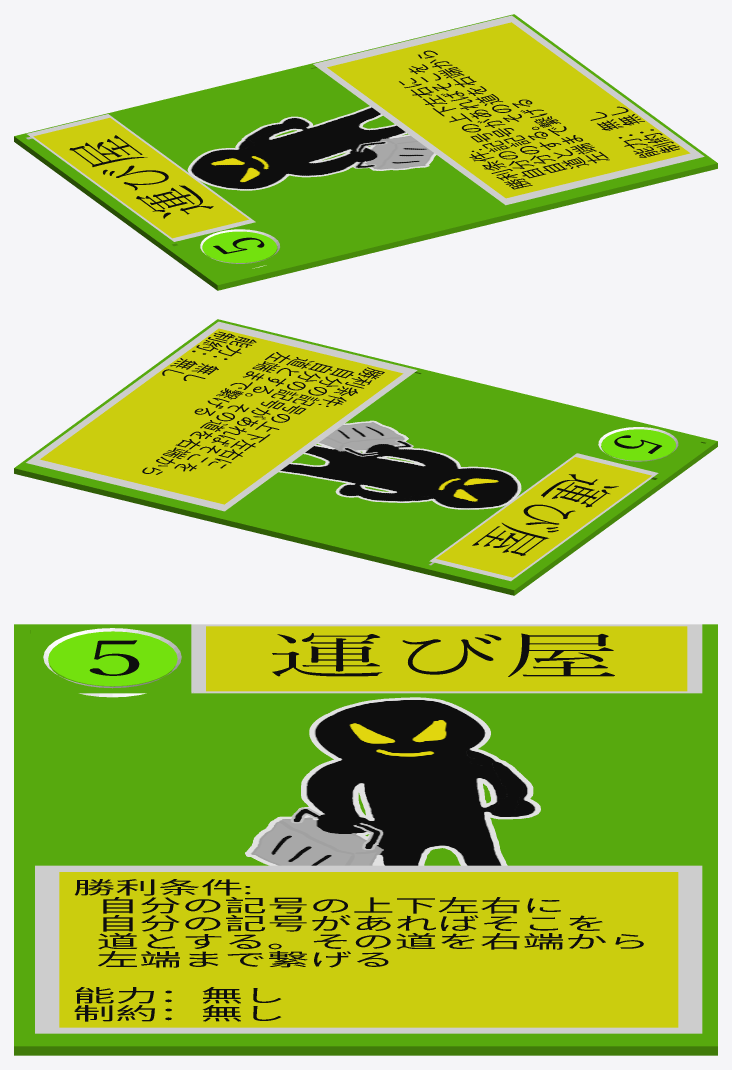
Rendered from 運び屋緑.fbx.
3 views of the same model, one above another, from view 1: azimuth 30°, elevation 25°; view 2: azimuth 150°, elevation 25°; view 3: azimuth 270°, elevation 25° (orthographic). The views are drawn at different scales.
Parts seen in each view (by area): view 1: カード本体.001, 説明欄, 平面.001, 名前欄, 説明文, 円, 平面, 名前; view 2: カード本体.001, 説明欄, 平面.001, 名前欄, 説明文, 円, 平面, 名前; view 3: カード本体.001, 説明欄, 平面.001, 名前欄, 説明文, 平面, 円, 名前, コスト蘭.
Part boxes in pixels (left/top/right/bottom): カード本体.001: left=14, top=14, right=717, bottom=290; 説明欄: left=313, top=15, right=704, bottom=205; 平面.001: left=187, top=106, right=436, bottom=190; 名前欄: left=27, top=114, right=255, bottom=241; 説明文: left=399, top=50, right=679, bottom=189; 円: left=202, top=231, right=276, bottom=262; 平面: left=174, top=222, right=302, bottom=275; 名前: left=69, top=135, right=213, bottom=218; カード本体.001: left=14, top=319, right=717, bottom=595; 説明欄: left=26, top=321, right=417, bottom=511; 平面.001: left=278, top=420, right=521, bottom=509; 名前欄: left=429, top=453, right=658, bottom=581; 説明文: left=142, top=331, right=384, bottom=474; 円: left=601, top=429, right=675, bottom=460; 平面: left=577, top=419, right=704, bottom=472; 名前: left=472, top=474, right=618, bottom=555; カード本体.001: left=14, top=624, right=717, bottom=1055; 説明欄: left=35, top=865, right=702, bottom=1033; 平面.001: left=245, top=697, right=540, bottom=865; 名前欄: left=191, top=624, right=702, bottom=693; 説明文: left=74, top=879, right=643, bottom=1021; 平面: left=30, top=624, right=191, bottom=693; 円: left=48, top=631, right=177, bottom=686; 名前: left=272, top=633, right=614, bottom=676; コスト蘭: left=43, top=628, right=181, bottom=697.
Bounding box in the file's own units: 281 × 6.07 × 198.
